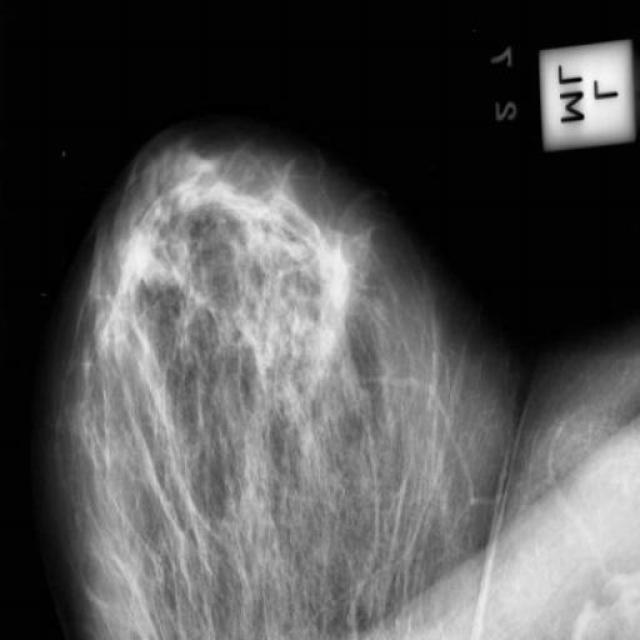cancer: (330, 318, 370, 389)
